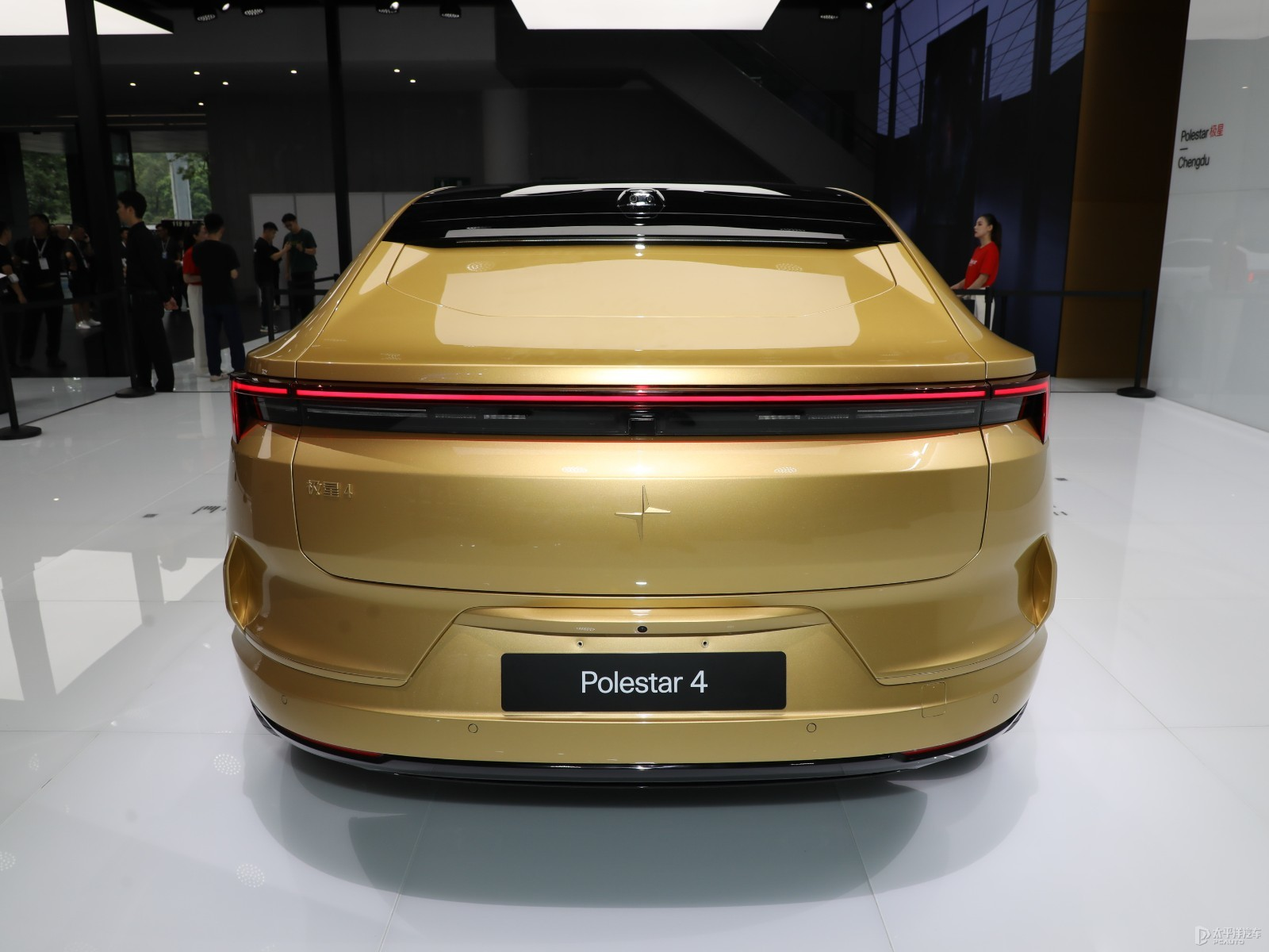Polestar: (615, 486, 670, 540)
